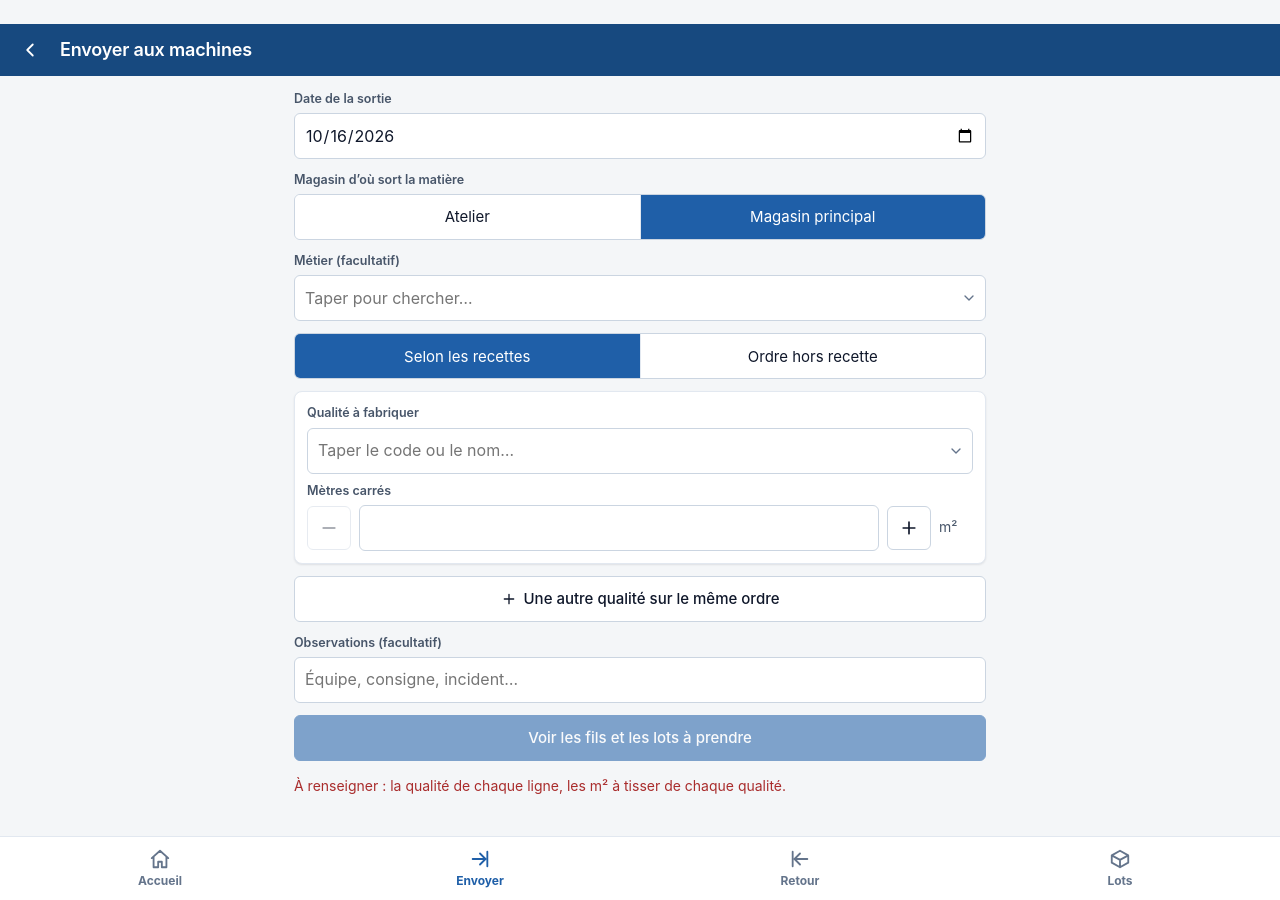
Envoyer aux machines › demande → lots proposés repliés → validation : brouillon puis validation, sans prix
(page scrolled)
Expected: the text "À renseigner : la qualité de chaque ligne, les m² à tisser de chaque qualité." is shown, [294,777,786,794]
Expected: the heading "Envoyer aux machines" is shown, [60,37,252,63]
Type "ATL" into the dropdown labelled "Qualité à fabriquer" at [640, 450], box [307,428,973,474]
Then press Enter
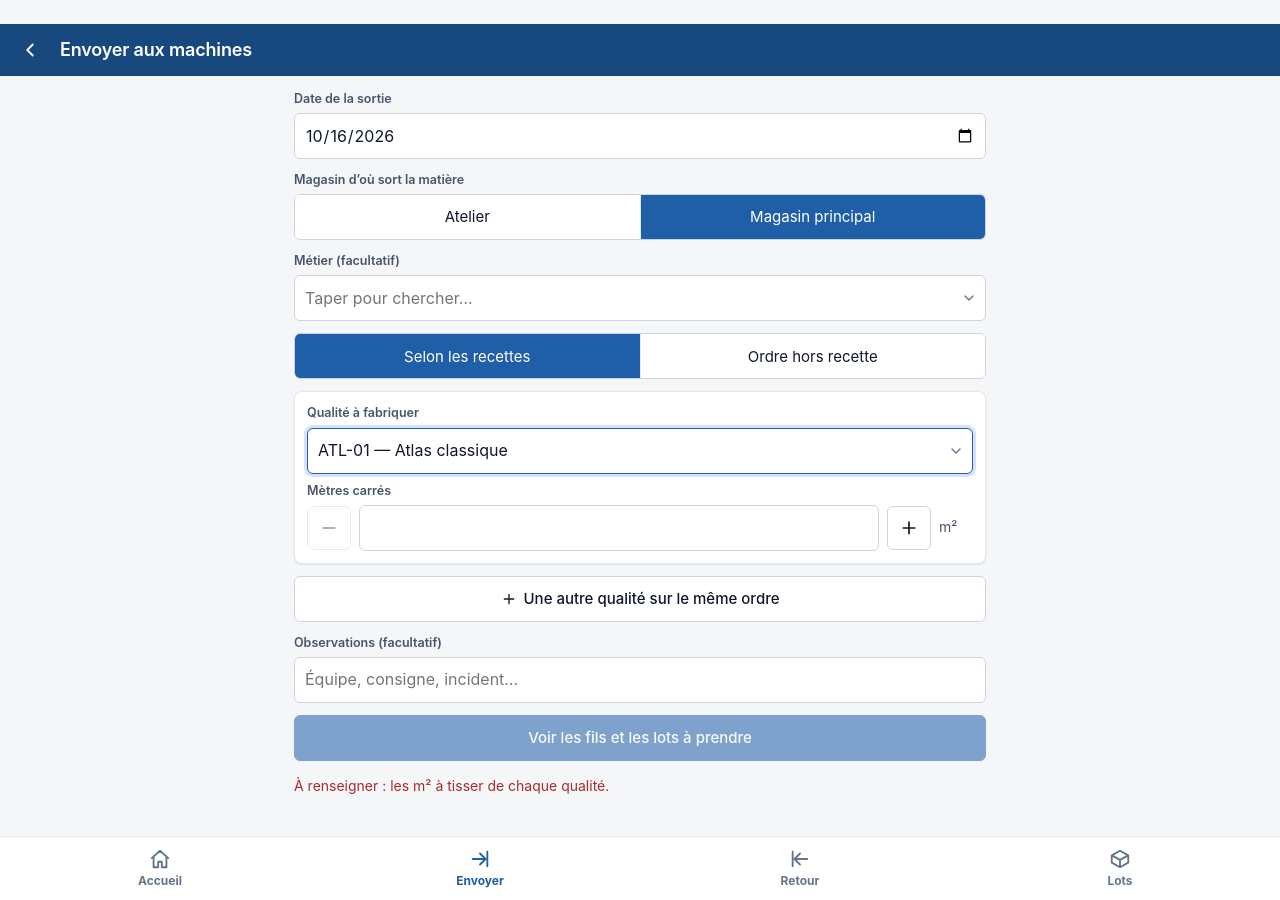
Type "100" into the field named "Mètres carrés" at [619, 528], box [359,505,879,551]
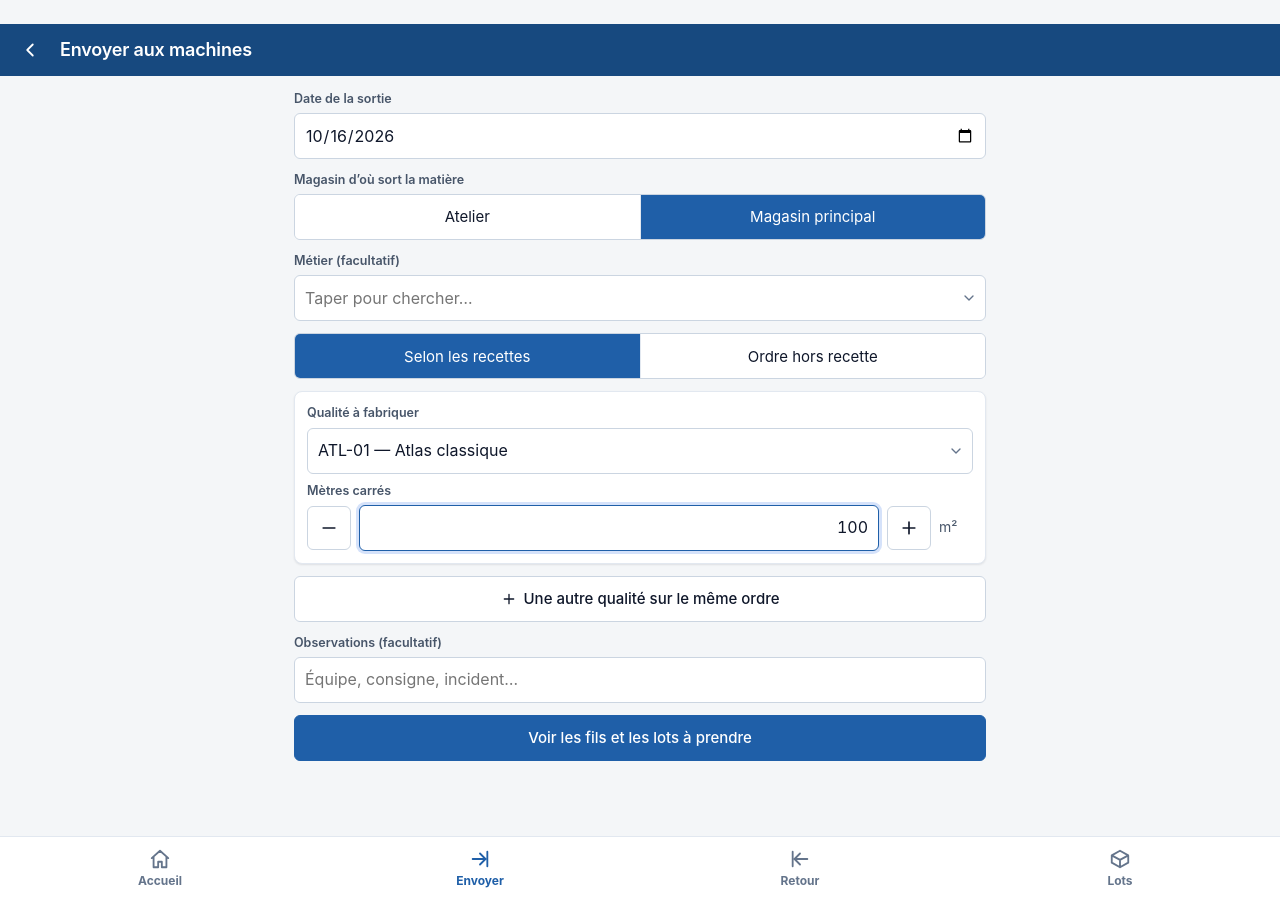
Click the button "Voir les fils et les lots à prendre" at [640, 738], box [294,715,986,761]
(page scrolled)
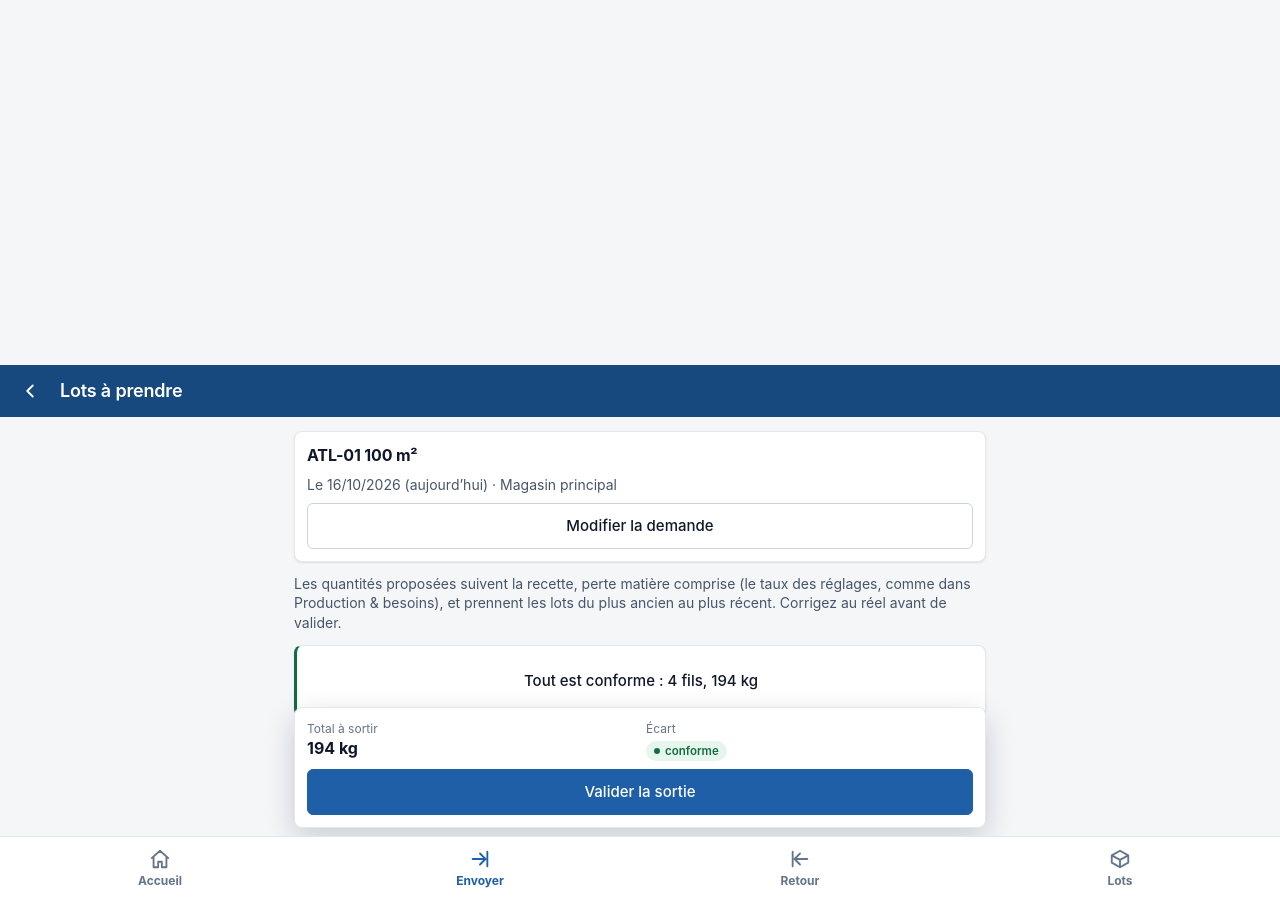
Result: the heading "Lots à prendre" is shown at [60,378,182,404]
Result: the button "Tout est conforme : 4 fils, 194 kg" is shown at [309,658,973,704]
Click the button "Valider la sortie" at [640, 792], box [307,769,973,815]
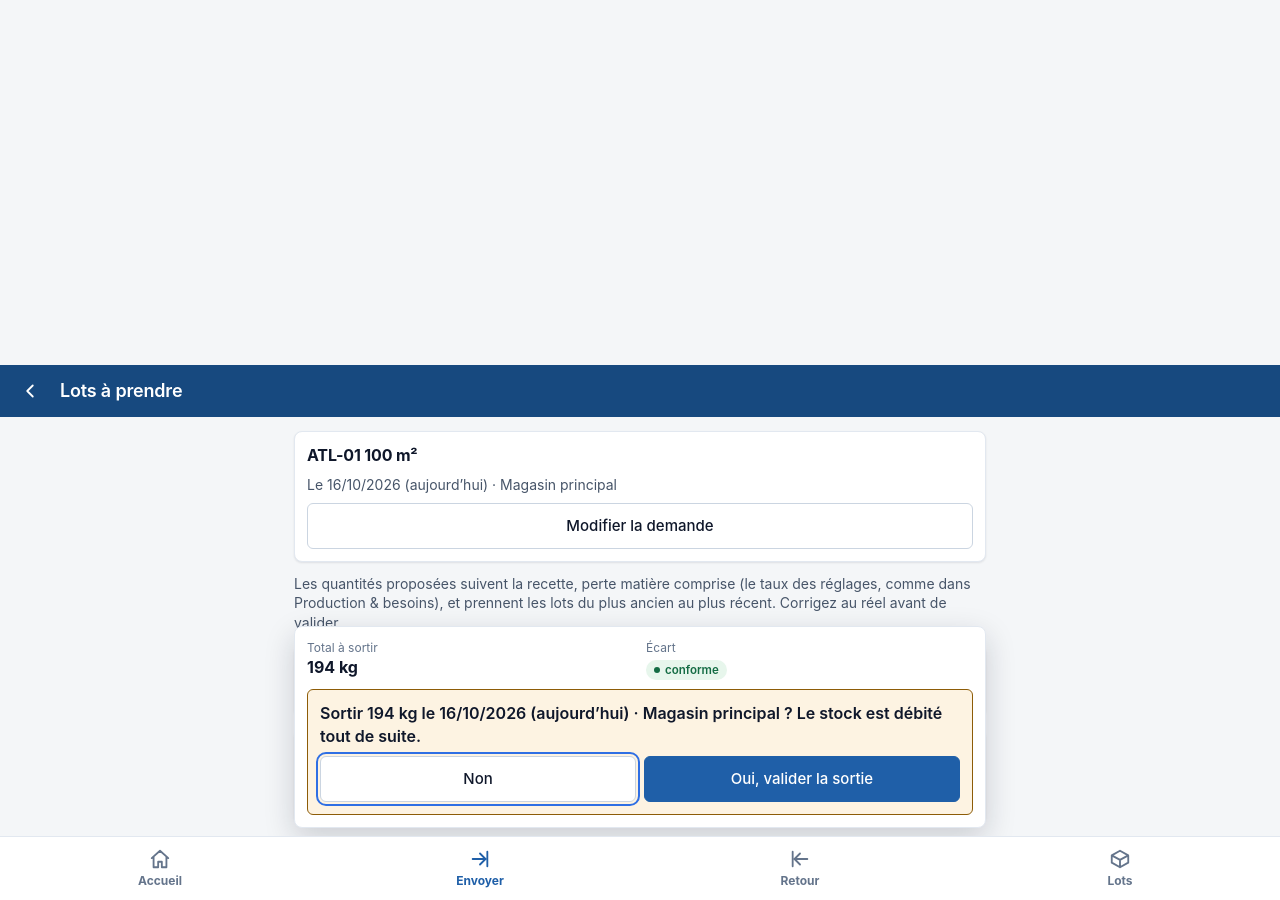
Click the button "Oui, valider la sortie" at [802, 779], box [644,756,960,802]
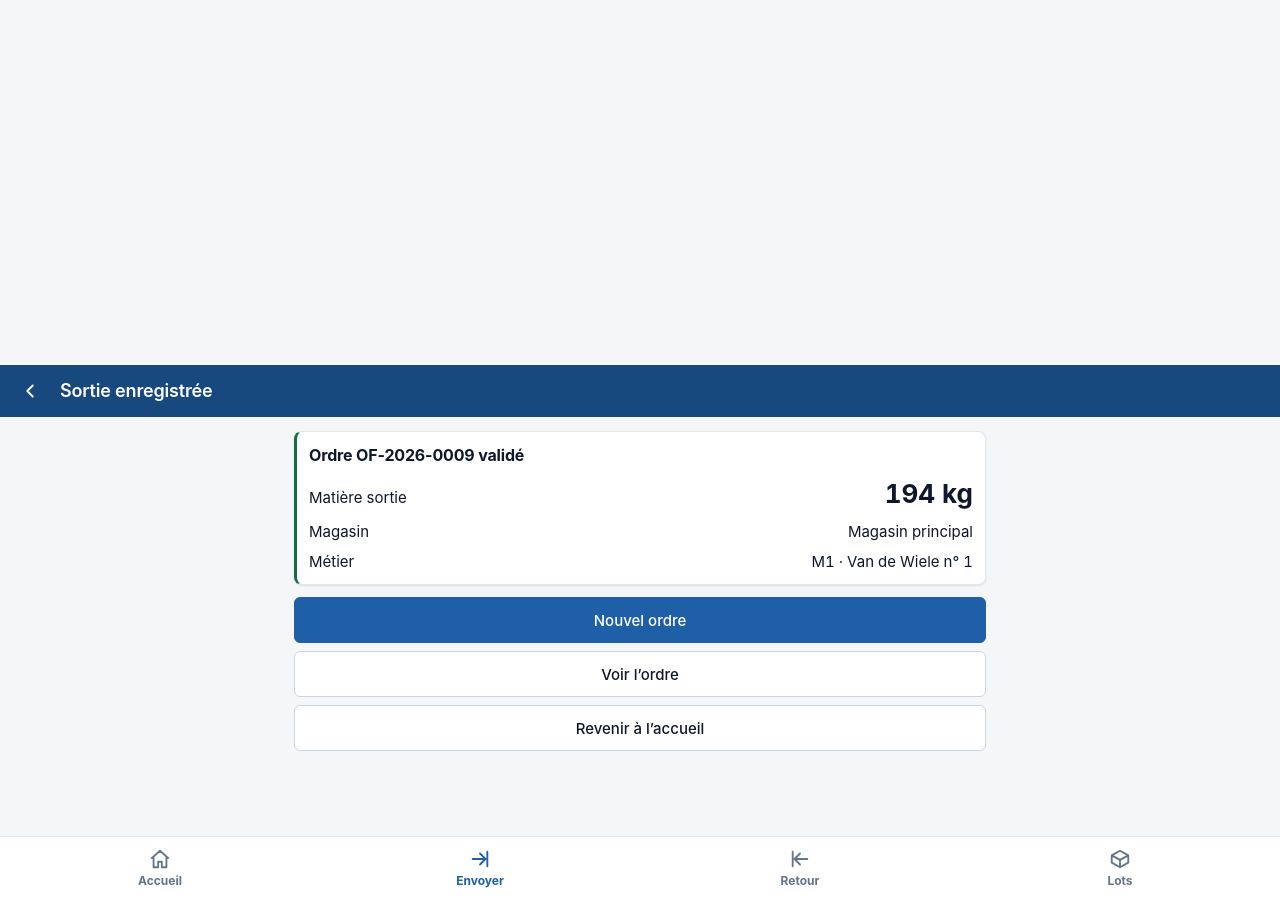
Result: the heading "Sortie enregistrée" is shown at [60,378,212,404]
Result: the heading "Ordre OF-2026-0009 validé" is shown at [309,445,524,465]
